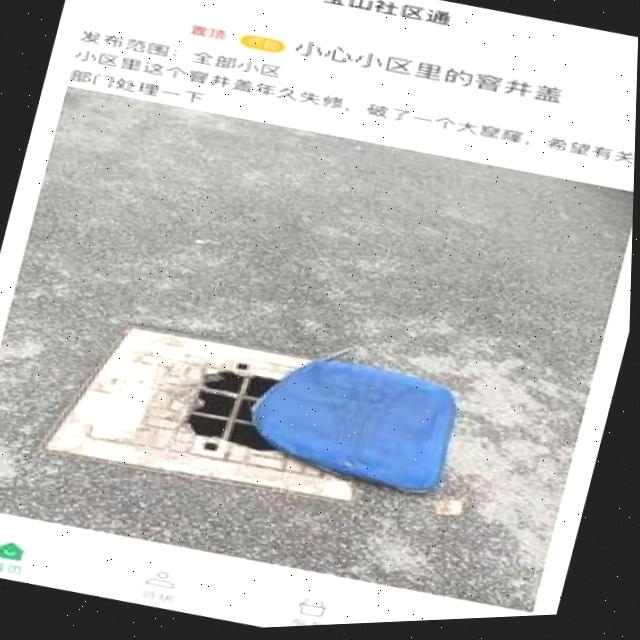manhole: (22, 288, 426, 528)
